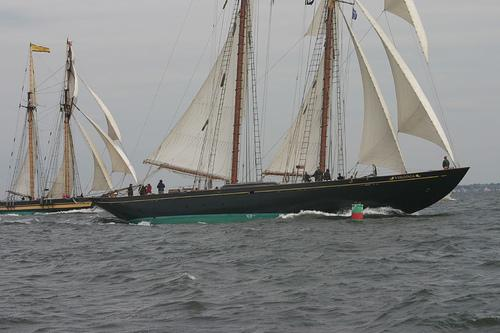Ship: (94, 1, 473, 223), (1, 36, 135, 214)
